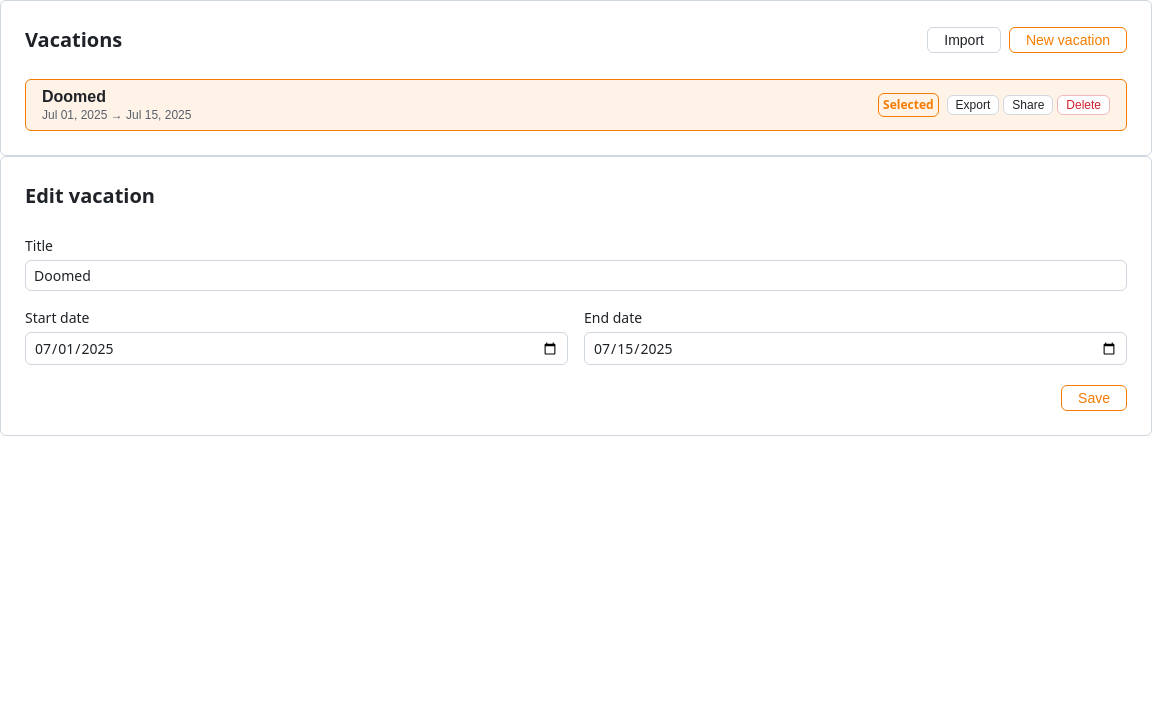
Test: VacationsView › asks for confirmation before deleting
The width and height of the screenshot is (1152, 720).
Click the button with class "btn-danger" at (1084, 105), box [1057, 95, 1110, 115]
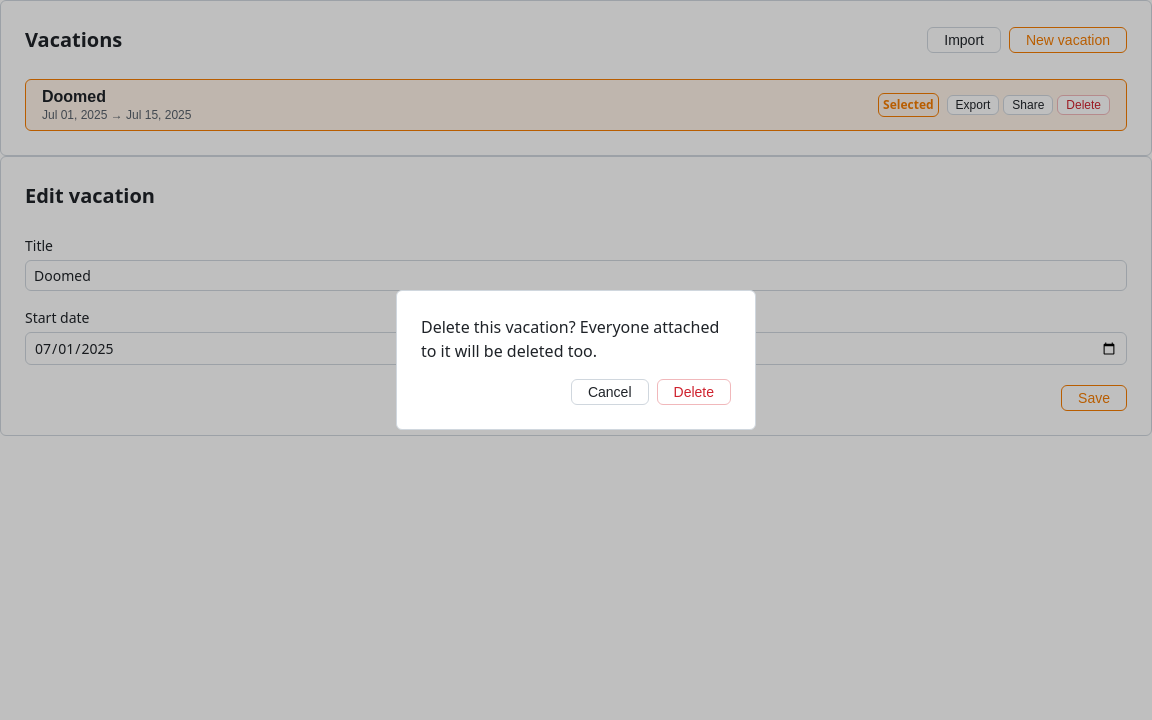
Check: the dialog with class "dialog" is shown, box [396, 290, 756, 430]
